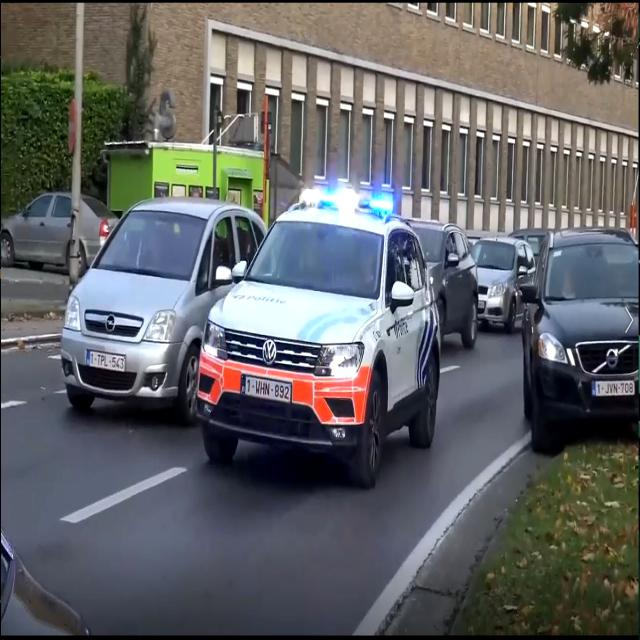emergency: (190, 177, 446, 480)
